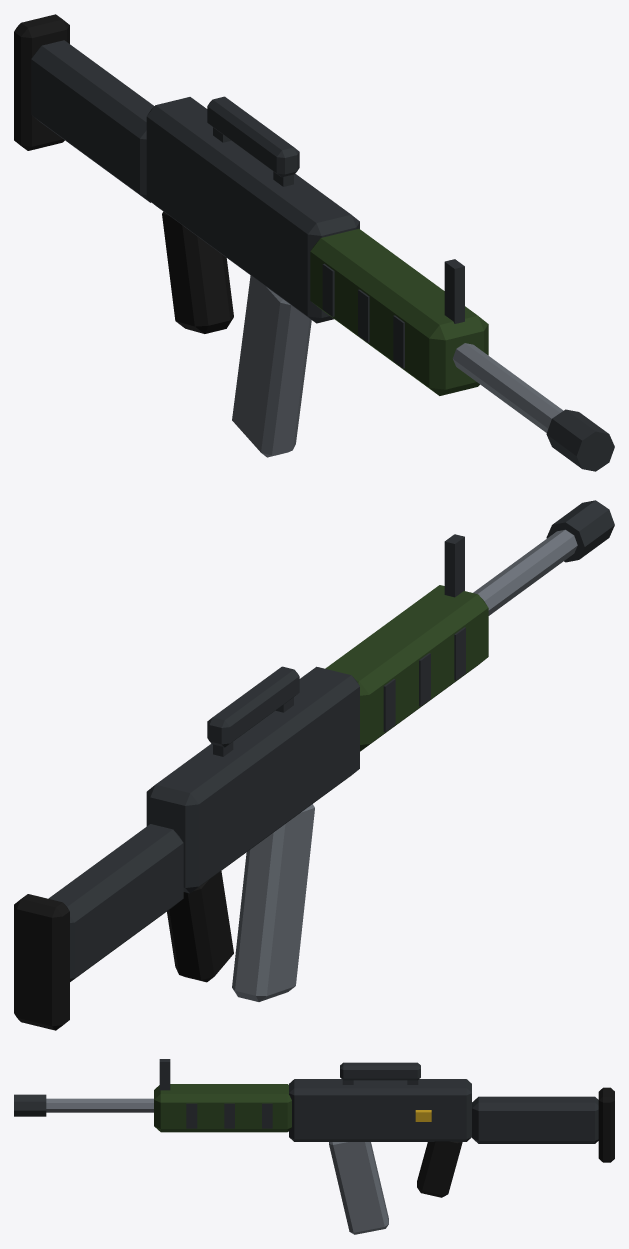
The picture shows the model from 3 angles, top to bottom: view 1: azimuth 30°, elevation 25°; view 2: azimuth 150°, elevation 25°; view 3: azimuth 270°, elevation 25°; orthographic projection. The views are drawn at different scales.
Visible parts, largest first — view 1: wpn_ar; view 2: wpn_ar; view 3: wpn_ar.
Part boxes in pixels (left/top/right/bottom): wpn_ar: left=14, top=14, right=614, bottom=471; wpn_ar: left=14, top=500, right=614, bottom=1030; wpn_ar: left=14, top=1059, right=614, bottom=1234.
Size of the model in its own units: 0.0608 by 0.2812 by 0.892.
1 material, 1 textured.
